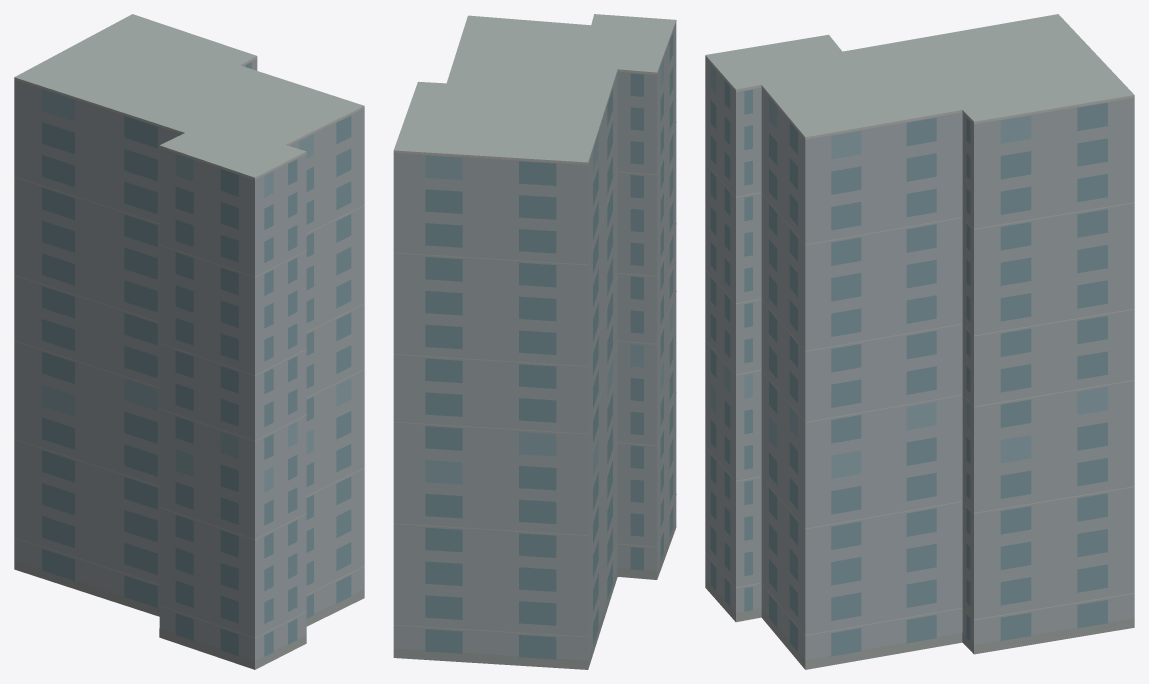
The model's file is survey-upis-32838075.glb.
The picture shows the model from 3 angles, left to right: view 1: azimuth 30°, elevation 25°; view 2: azimuth 150°, elevation 25°; view 3: azimuth 270°, elevation 25°; orthographic projection. The views are drawn at different scales.
Visible parts, largest first — view 1: survey-upis-32838075.tmp; view 2: survey-upis-32838075.tmp; view 3: survey-upis-32838075.tmp.
Part boxes in pixels (x1,y1,x2,y2): survey-upis-32838075.tmp: [14, 14, 364, 669]; survey-upis-32838075.tmp: [393, 14, 676, 669]; survey-upis-32838075.tmp: [705, 14, 1134, 669].
Bounding box in the file's own units: 26.59 × 53.5 × 39.11.
